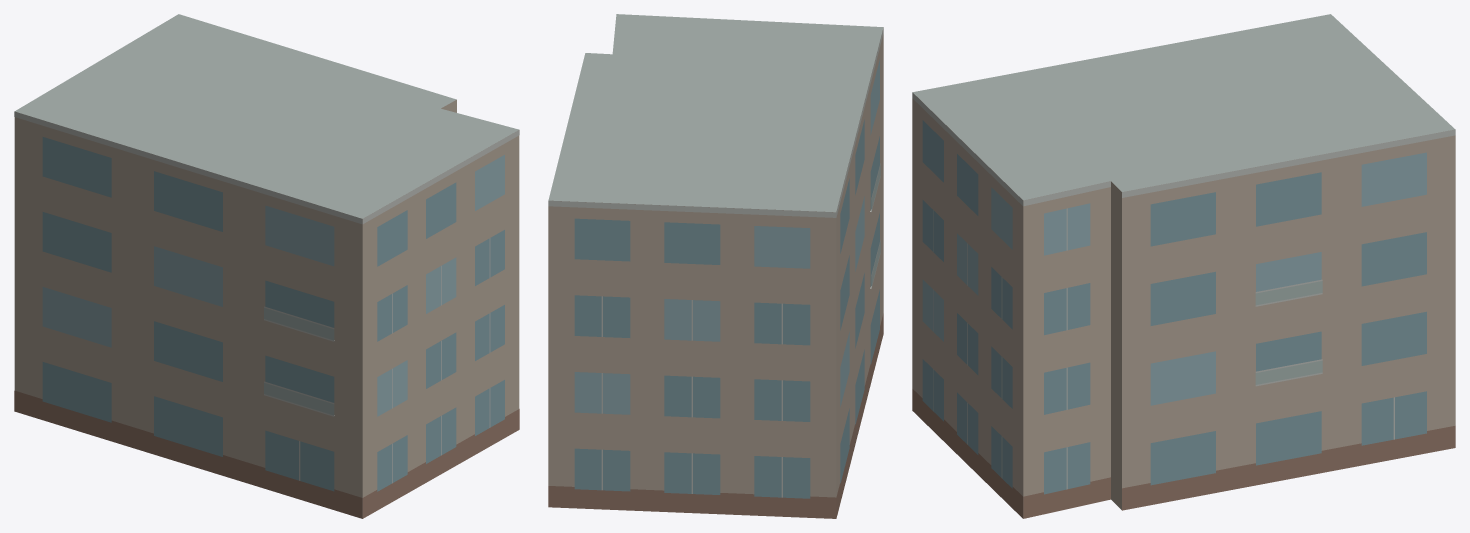
Rendered from survey-upis-32739648.glb.
3 views of the same model, side by side, from view 1: azimuth 30°, elevation 25°; view 2: azimuth 150°, elevation 25°; view 3: azimuth 270°, elevation 25° (orthographic). The views are drawn at different scales.
Parts seen in each view (by area): view 1: survey-upis-32739648.tmp; view 2: survey-upis-32739648.tmp; view 3: survey-upis-32739648.tmp.
Part boxes in pixels (x1,y1,x2,y2): survey-upis-32739648.tmp: (14,14,519,518); survey-upis-32739648.tmp: (548,14,883,518); survey-upis-32739648.tmp: (912,14,1455,518).
Bounding box in the file's own units: 16.46 × 13.1 × 20.26.
